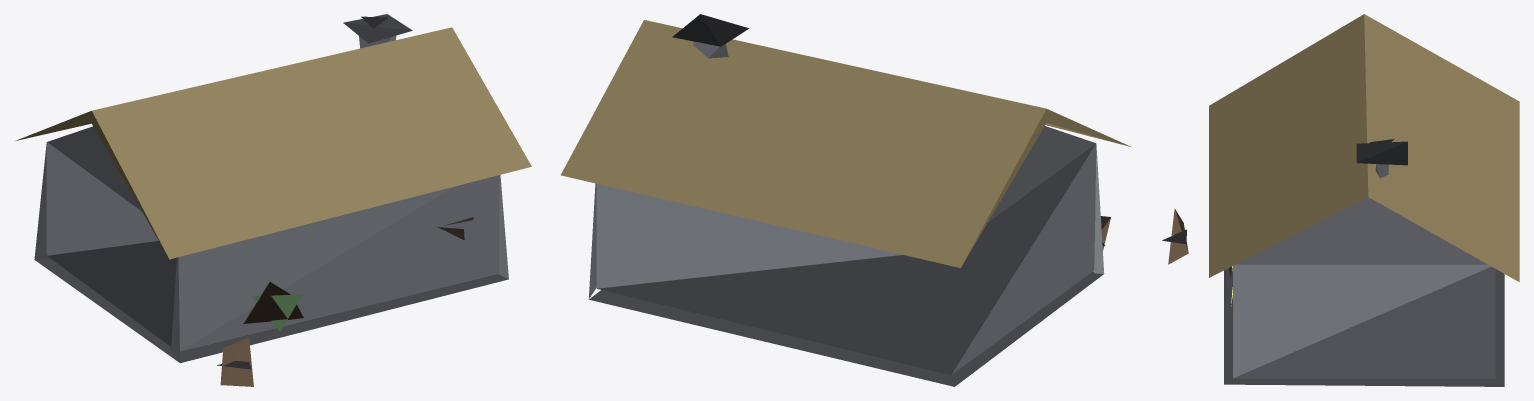
File: bree_house_hobbit_2_lod2.glb
3 views of the same model, side by side, from view 1: azimuth 30°, elevation 25°; view 2: azimuth 150°, elevation 25°; view 3: azimuth 270°, elevation 25° (orthographic). The views are drawn at different scales.
Parts seen in each view (by area): view 1: bree_house_hobbit_2_lod2; view 2: bree_house_hobbit_2_lod2; view 3: bree_house_hobbit_2_lod2.
Part boxes in pixels (<box>): bree_house_hobbit_2_lod2: <box>15,14,531,386</box>; bree_house_hobbit_2_lod2: <box>561,14,1130,386</box>; bree_house_hobbit_2_lod2: <box>1162,14,1519,386</box>.
Size of the model in its own units: 7 by 4.31 by 6.
